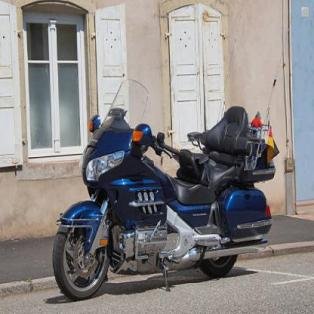Motocicleta: (48, 73, 278, 304)
